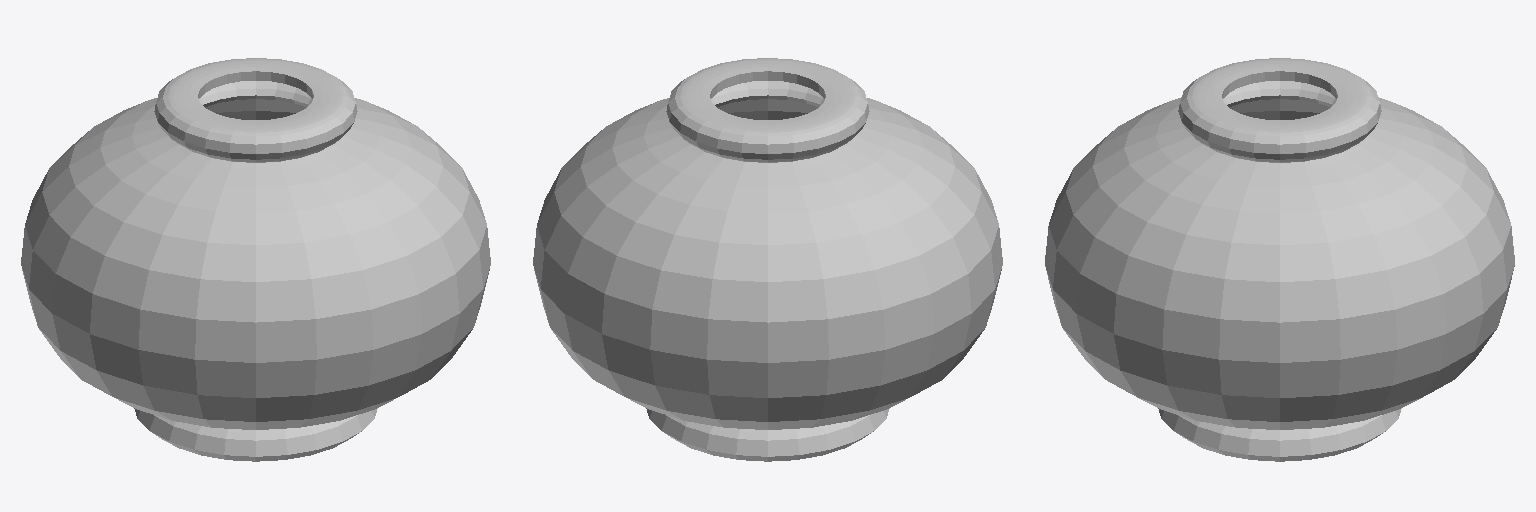
Rendered from FishandBowl.obj.
The picture shows the model from 3 angles: view 1: azimuth 30°, elevation 25°; view 2: azimuth 150°, elevation 25°; view 3: azimuth 270°, elevation 25°; orthographic projection.
Parts seen in each view (by area): view 1: revolvedSurface1; view 2: revolvedSurface1; view 3: revolvedSurface1.
Boxes of the visible parts, box(x1,y1,x2,y2) form: revolvedSurface1: box(21, 58, 490, 461); revolvedSurface1: box(533, 58, 1002, 461); revolvedSurface1: box(1045, 58, 1514, 461).
Bounding box in the file's own units: 36.82 × 27.76 × 36.82.